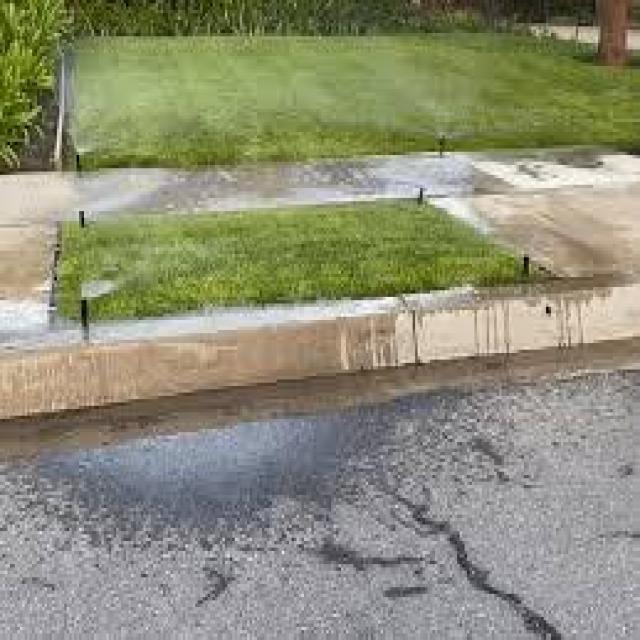curb: (1, 269, 640, 428)
